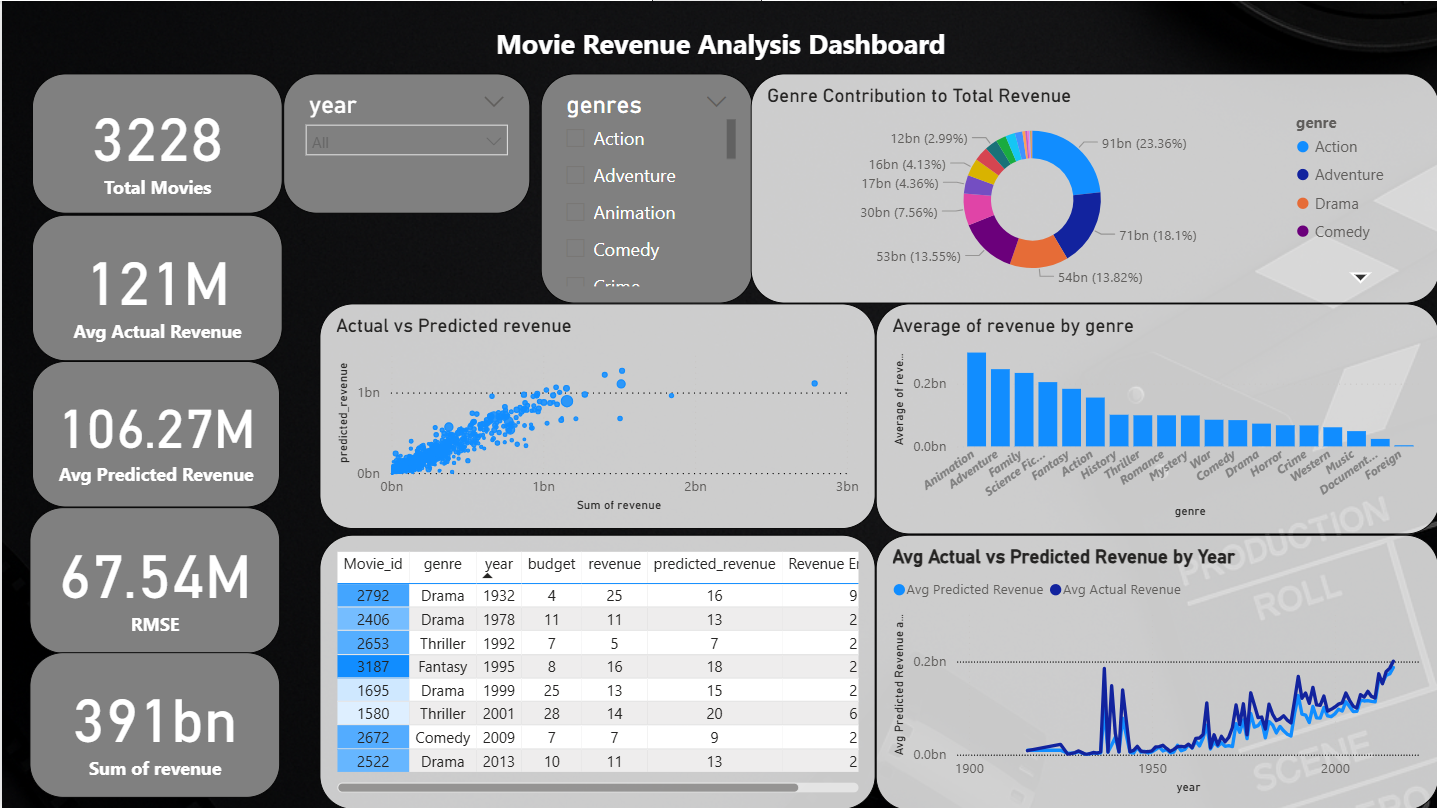

This screenshot's page, from the dashboard's own definition file:
{"tool":"powerbi","page":{"name":"Page 1","canvas":[1280,720],"ordinal":0},"visuals":[{"type":"card","fields":{"Values":["movie_predictions.Total Movies"]},"box":[27,65,223.3,125.2],"z":0},{"type":"slicer","fields":{"Values":["movie_predictions.year"]},"box":[250.3,65,219.6,125.2],"z":1000},{"type":"slicer","fields":{"Values":["movie_predictions.genre"]},"box":[479.3,64.6,188.5,204.6],"z":2000},{"type":"card","fields":{"Values":["movie_predictions.Avg Actual Revenue"]},"box":[27,190.2,223.3,130.1],"z":3000},{"type":"card","fields":{"Values":["movie_predictions.Avg Predicted Revenue"]},"box":[27,320.2,220.9,130.1],"z":4000},{"type":"card","fields":{"Values":["movie_predictions.RMSE"]},"box":[24.5,450.3,223.3,130.1],"z":5000},{"type":"lineChart","title":"Avg Actual vs Predicted Revenue by Year","fields":{"Category":["movie_predictions.year"],"Y":["movie_predictions.Avg Predicted Revenue","movie_predictions.Avg Actual Revenue"]},"box":[777.9,474.8,501.8,245.4],"z":6000},{"type":"clusteredColumnChart","fields":{"Y":["Avg(movie_predictions.revenue)"],"Category":["movie_predictions.genre"]},"box":[778,269,502.2,205.8],"z":7000},{"type":"scatterChart","title":"Actual vs Predicted revenue","fields":{"Y":["movie_predictions.predicted_revenue"],"X":["Sum(movie_predictions.revenue)"],"Size":["Sum(movie_predictions.popularity)"]},"box":[282.7,269.2,495.4,200.6],"z":8000},{"type":"tableEx","title":"Top 10 worst predictions","fields":{"Values":["movie_predictions.Movie_id","movie_predictions.genre","movie_predictions.year","movie_predictions.budget","movie_predictions.revenue","movie_predictions.predicted_revenue","movie_predictions.Revenue Error (Abs)"]},"box":[282.7,475.2,495.4,245],"z":9000},{"type":"textbox","title":"Movie Revenue Analysis Dashboard","box":[0,16.2,1280.3,74],"z":10000},{"type":"donutChart","title":"Genre Contribution to Total Revenue","fields":{"Category":["movie_predictions.genre"],"Y":["Sum(movie_predictions.revenue)"]},"box":[666.4,64.6,613.9,204.6],"z":11000},{"type":"card","fields":{"Values":["Sum(movie_predictions.revenue)"]},"box":[24.2,580.2,223.5,129.2],"z":12000}]}

Visuals, with their boxes in screenshot pixels (x1, y1, x2, y2), scaled from the page's 1280x720 canvas onto the 1437x808 screenshot:
card - movie_predictions.Total Movies: <region>30, 73, 281, 213</region>
slicer - movie_predictions.year: <region>281, 73, 528, 213</region>
slicer - movie_predictions.genre: <region>538, 72, 750, 302</region>
card - movie_predictions.Avg Actual Revenue: <region>30, 213, 281, 359</region>
card - movie_predictions.Avg Predicted Revenue: <region>30, 359, 278, 505</region>
card - movie_predictions.RMSE: <region>28, 505, 278, 651</region>
"Avg Actual vs Predicted Revenue by Year" lineChart: <region>873, 533, 1436, 807</region>
clusteredColumnChart - Avg(movie_predictions.revenue) x movie_predictions.genre: <region>873, 302, 1436, 533</region>
"Actual vs Predicted revenue" scatterChart: <region>317, 302, 874, 527</region>
"Top 10 worst predictions" tableEx: <region>317, 533, 874, 807</region>
"Movie Revenue Analysis Dashboard" textbox: <region>0, 18, 1436, 101</region>
"Genre Contribution to Total Revenue" donutChart: <region>748, 72, 1436, 302</region>
card - Sum(movie_predictions.revenue): <region>27, 651, 278, 796</region>
